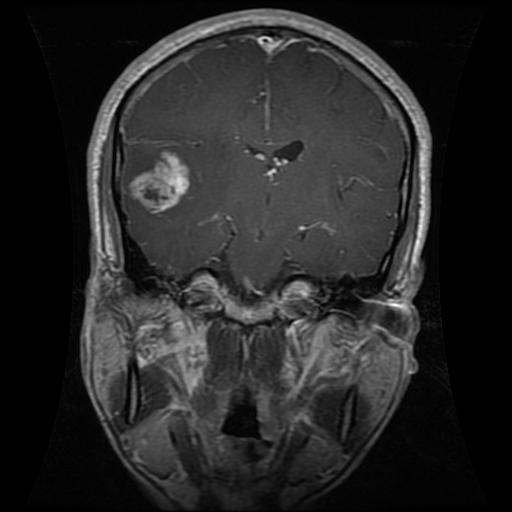Gliomia_tumour: (125, 145, 194, 216)
